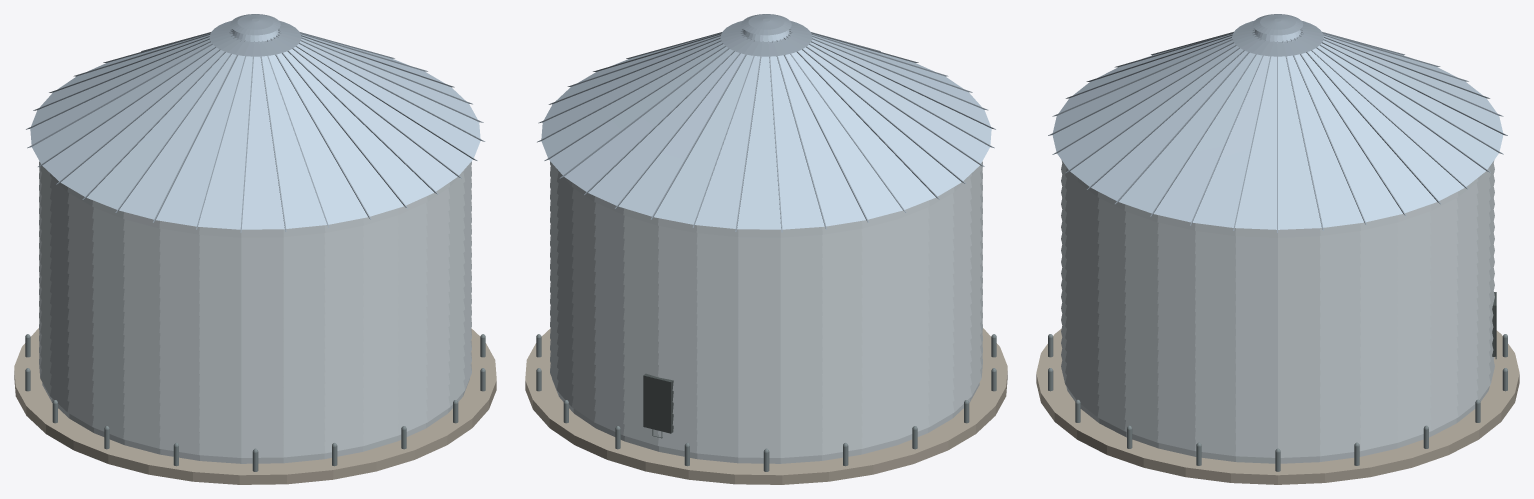
Rendered from Farm Grain Bin.glb.
3 views of the same model, side by side, from view 1: azimuth 30°, elevation 25°; view 2: azimuth 150°, elevation 25°; view 3: azimuth 270°, elevation 25° (orthographic).
Parts seen in each view (by area): view 1: Farm Grain Bin, Farn Grain Bin Lid, Farm Grain Bin Floor; view 2: Farm Grain Bin, Farn Grain Bin Lid, Farm Grain Bin Floor, Farm Grain Bin Hatch; view 3: Farm Grain Bin, Farn Grain Bin Lid, Farm Grain Bin Floor.
Boxes of the visible parts, box(x1,y1,x2,y2) form: Farm Grain Bin: box(39, 161, 471, 463); Farn Grain Bin Lid: box(26, 14, 485, 232); Farm Grain Bin Floor: box(14, 328, 496, 484); Farm Grain Bin: box(550, 161, 982, 463); Farn Grain Bin Lid: box(537, 14, 995, 232); Farm Grain Bin Floor: box(525, 328, 1007, 484); Farm Grain Bin Hatch: box(643, 373, 673, 433); Farm Grain Bin: box(1061, 160, 1494, 463); Farn Grain Bin Lid: box(1048, 14, 1507, 232); Farm Grain Bin Floor: box(1036, 329, 1519, 484).
Size of the model in its own units: 9 by 7.45 by 9.
